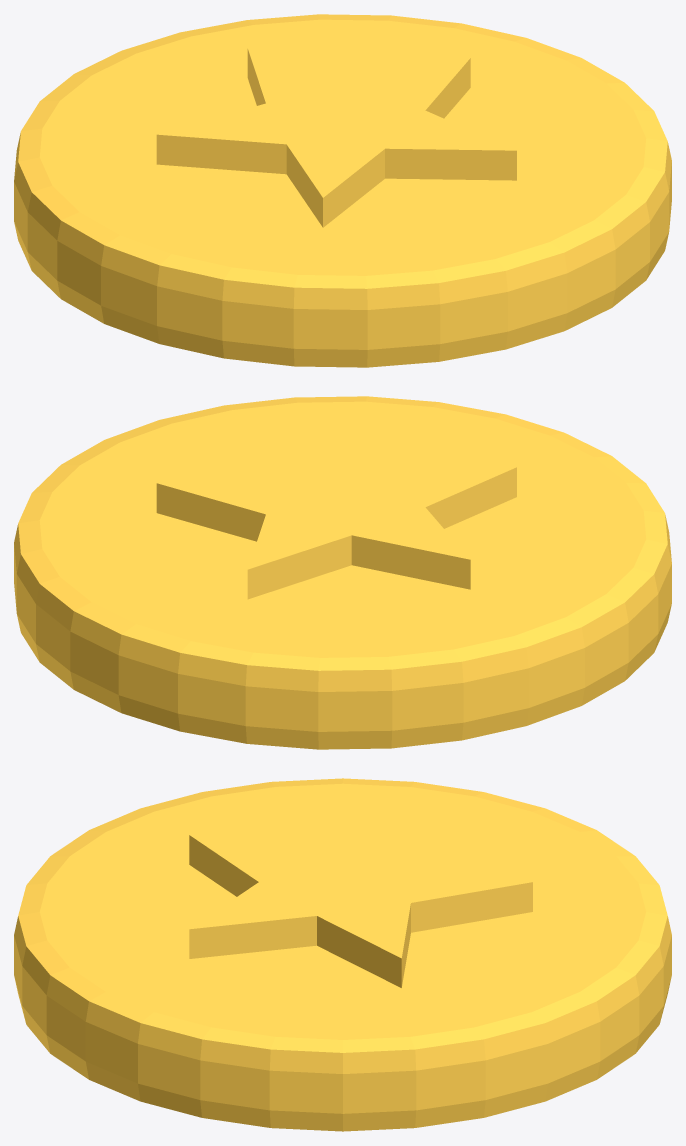
The model's file is coin.glb.
3 renders of one model, top to bottom at view 1: azimuth 30°, elevation 25°; view 2: azimuth 150°, elevation 25°; view 3: azimuth 270°, elevation 25°, orthographic.
Visible parts, largest first — view 1: __exp_coin; view 2: __exp_coin; view 3: __exp_coin.
Part boxes in pixels (x1,y1,x2,y2): __exp_coin: (14, 14, 671, 367); __exp_coin: (14, 396, 671, 749); __exp_coin: (14, 778, 671, 1131).
Bounding box in the file's own units: 0.18 × 0.035 × 0.18.
